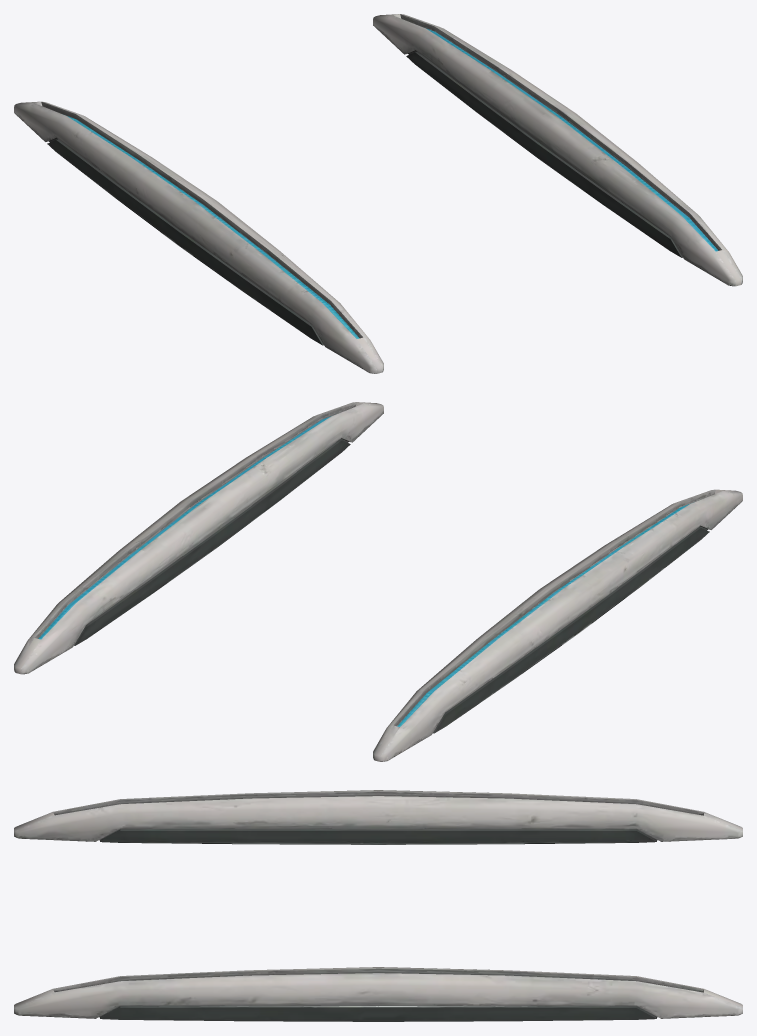
File: portal_0.glb
3 views of the same model, one above another, from view 1: azimuth 30°, elevation 25°; view 2: azimuth 150°, elevation 25°; view 3: azimuth 270°, elevation 25° (orthographic).
Parts seen in each view (by area): view 1: static_prop_34|autoportal_frame_parts\obj\autoportal_frame.; view 2: static_prop_34|autoportal_frame_parts\obj\autoportal_frame.; view 3: static_prop_34|autoportal_frame_parts\obj\autoportal_frame..
Boxes of the visible parts, x1,y1,x2,y2 form: static_prop_34|autoportal_frame_parts\obj\autoportal_frame.: (14,14,742,373); static_prop_34|autoportal_frame_parts\obj\autoportal_frame.: (14,402,742,761); static_prop_34|autoportal_frame_parts\obj\autoportal_frame.: (14,790,742,1021).
Size of the model in its own units: 1.28 by 0.125 by 2.
1 material, 1 textured.
